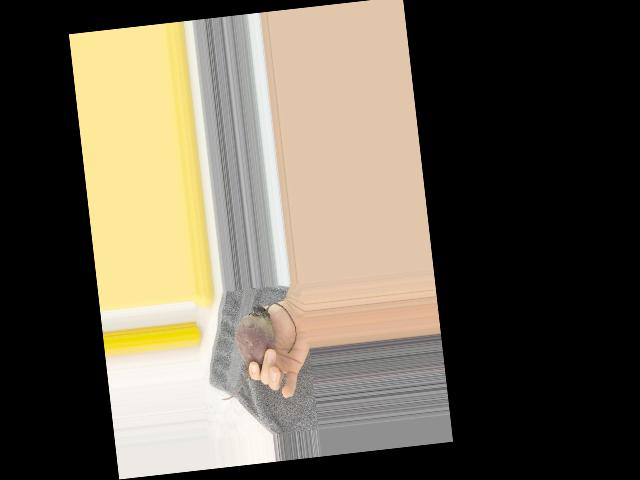beet: (211, 301, 303, 400)
